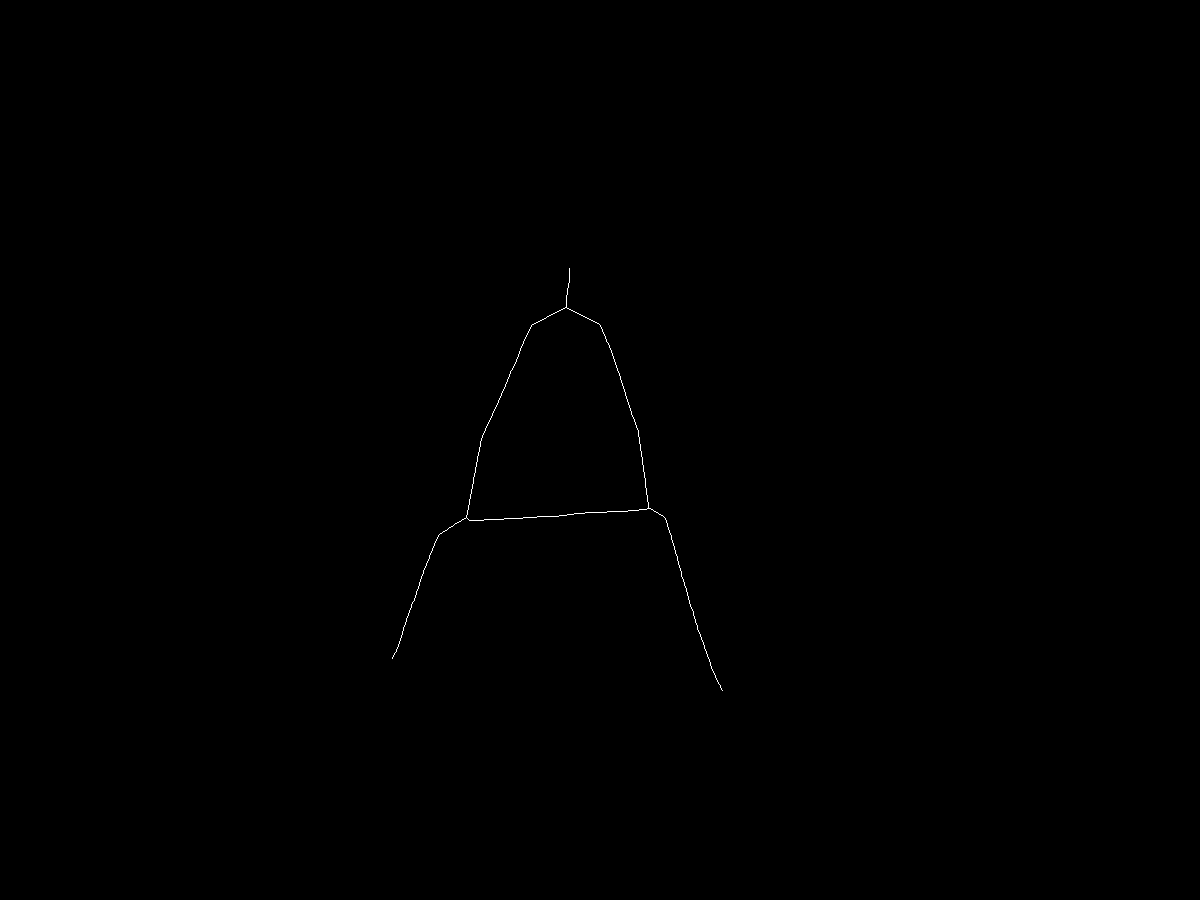dian1: (558, 303, 572, 316)
dian2: (460, 514, 471, 528)
dian3: (387, 650, 399, 667)
dian4: (642, 504, 656, 517)
dian5: (714, 687, 732, 702)
